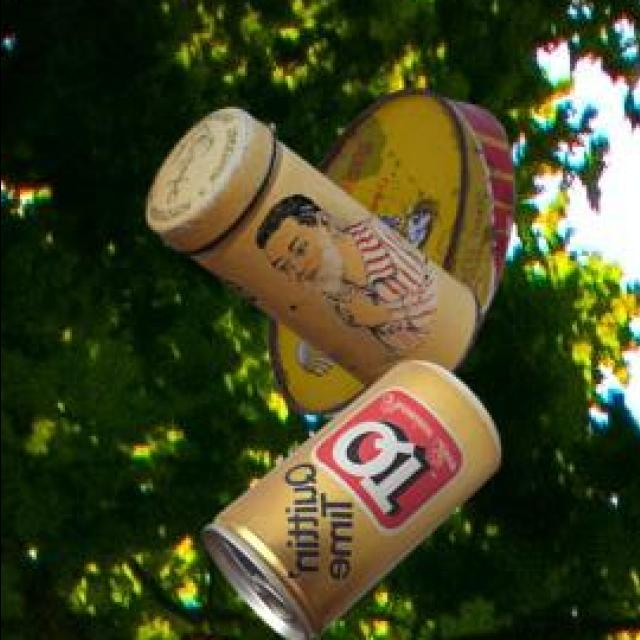logam: (141, 105, 475, 383), (198, 359, 497, 640), (264, 84, 511, 414)
